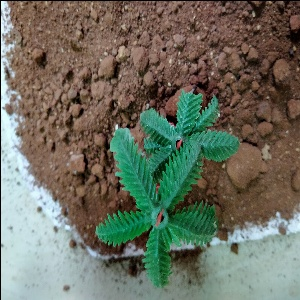plant: (101, 94, 212, 271)
